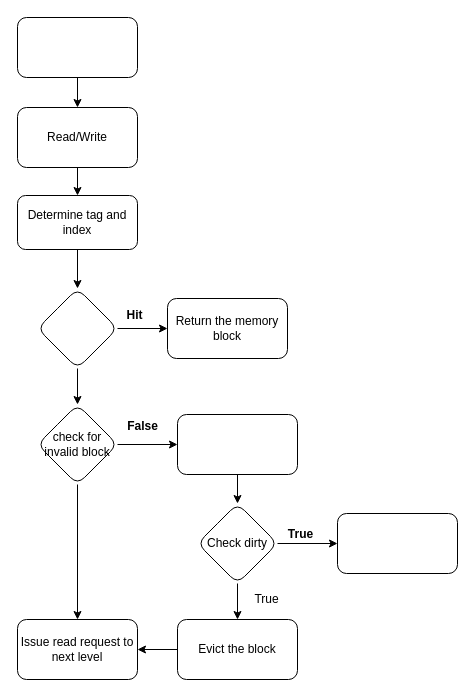
Some shapes in this 475 by 697 pixel diagram are drawn without their labels. The shapes that lost their labels are listed below. From the top down, each one's box as (x1, y1, x2, y2) in pixels, then its label:
(16, 16, 138, 78): Read/write request received
(36, 288, 118, 368): Check hit/miss?
(176, 414, 298, 474): Search for LRU block in the set determined by the index
(336, 512, 458, 574): issue a write request to next level
